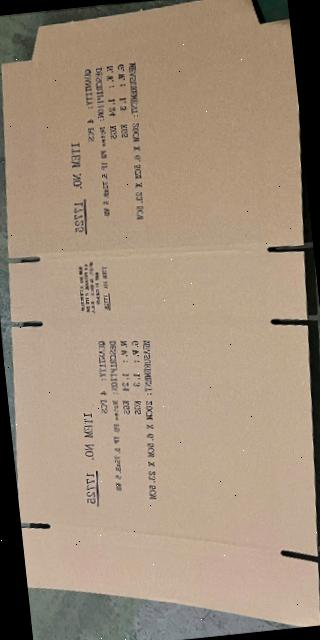box: (1, 0, 320, 626)
